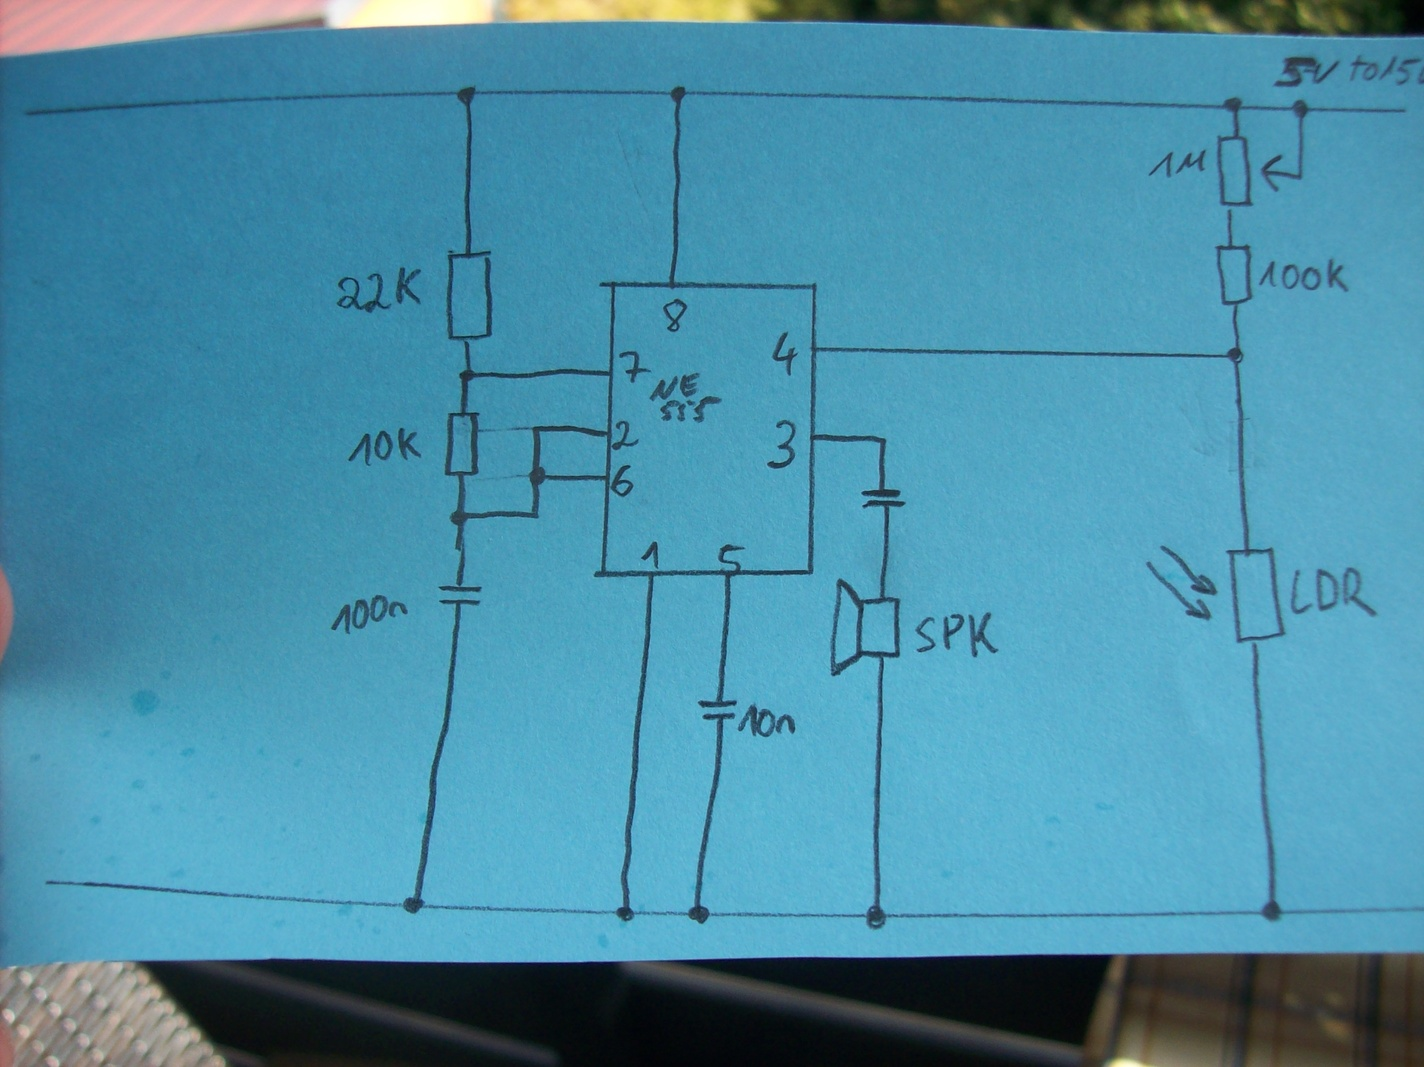capacitor.unpolarized: (435, 579, 484, 613), (859, 486, 908, 513), (695, 697, 741, 724)
integrated_cricuit.ne555: (592, 280, 819, 579)
junction: (864, 902, 888, 933), (400, 894, 429, 919), (1259, 899, 1287, 924), (453, 83, 480, 106), (666, 83, 690, 106), (686, 904, 713, 926), (1221, 94, 1246, 115), (613, 903, 637, 924), (1223, 345, 1246, 367), (527, 466, 548, 488), (448, 508, 471, 528), (1290, 98, 1310, 119), (456, 368, 478, 386), (874, 432, 894, 449), (525, 507, 542, 523), (529, 421, 547, 437)
resistor: (441, 245, 497, 344), (1214, 242, 1256, 310), (441, 409, 481, 481)
resistor.adjustable: (1213, 132, 1309, 214)
resistor.photo: (1145, 542, 1288, 646)
speaker: (827, 577, 903, 680)
terminal: (36, 875, 61, 892), (19, 106, 41, 123), (1395, 102, 1415, 120), (1411, 899, 1424, 917)
text: (1271, 53, 1424, 90), (1288, 566, 1381, 620), (334, 265, 425, 315), (913, 611, 1000, 660), (648, 372, 723, 425), (1257, 257, 1352, 296), (331, 592, 409, 635), (348, 427, 424, 467), (1145, 148, 1208, 182), (737, 704, 798, 739), (766, 418, 799, 471), (770, 330, 799, 378), (617, 349, 649, 386), (660, 297, 689, 334), (717, 542, 746, 578), (611, 419, 640, 452), (609, 463, 635, 499), (641, 539, 662, 570)
